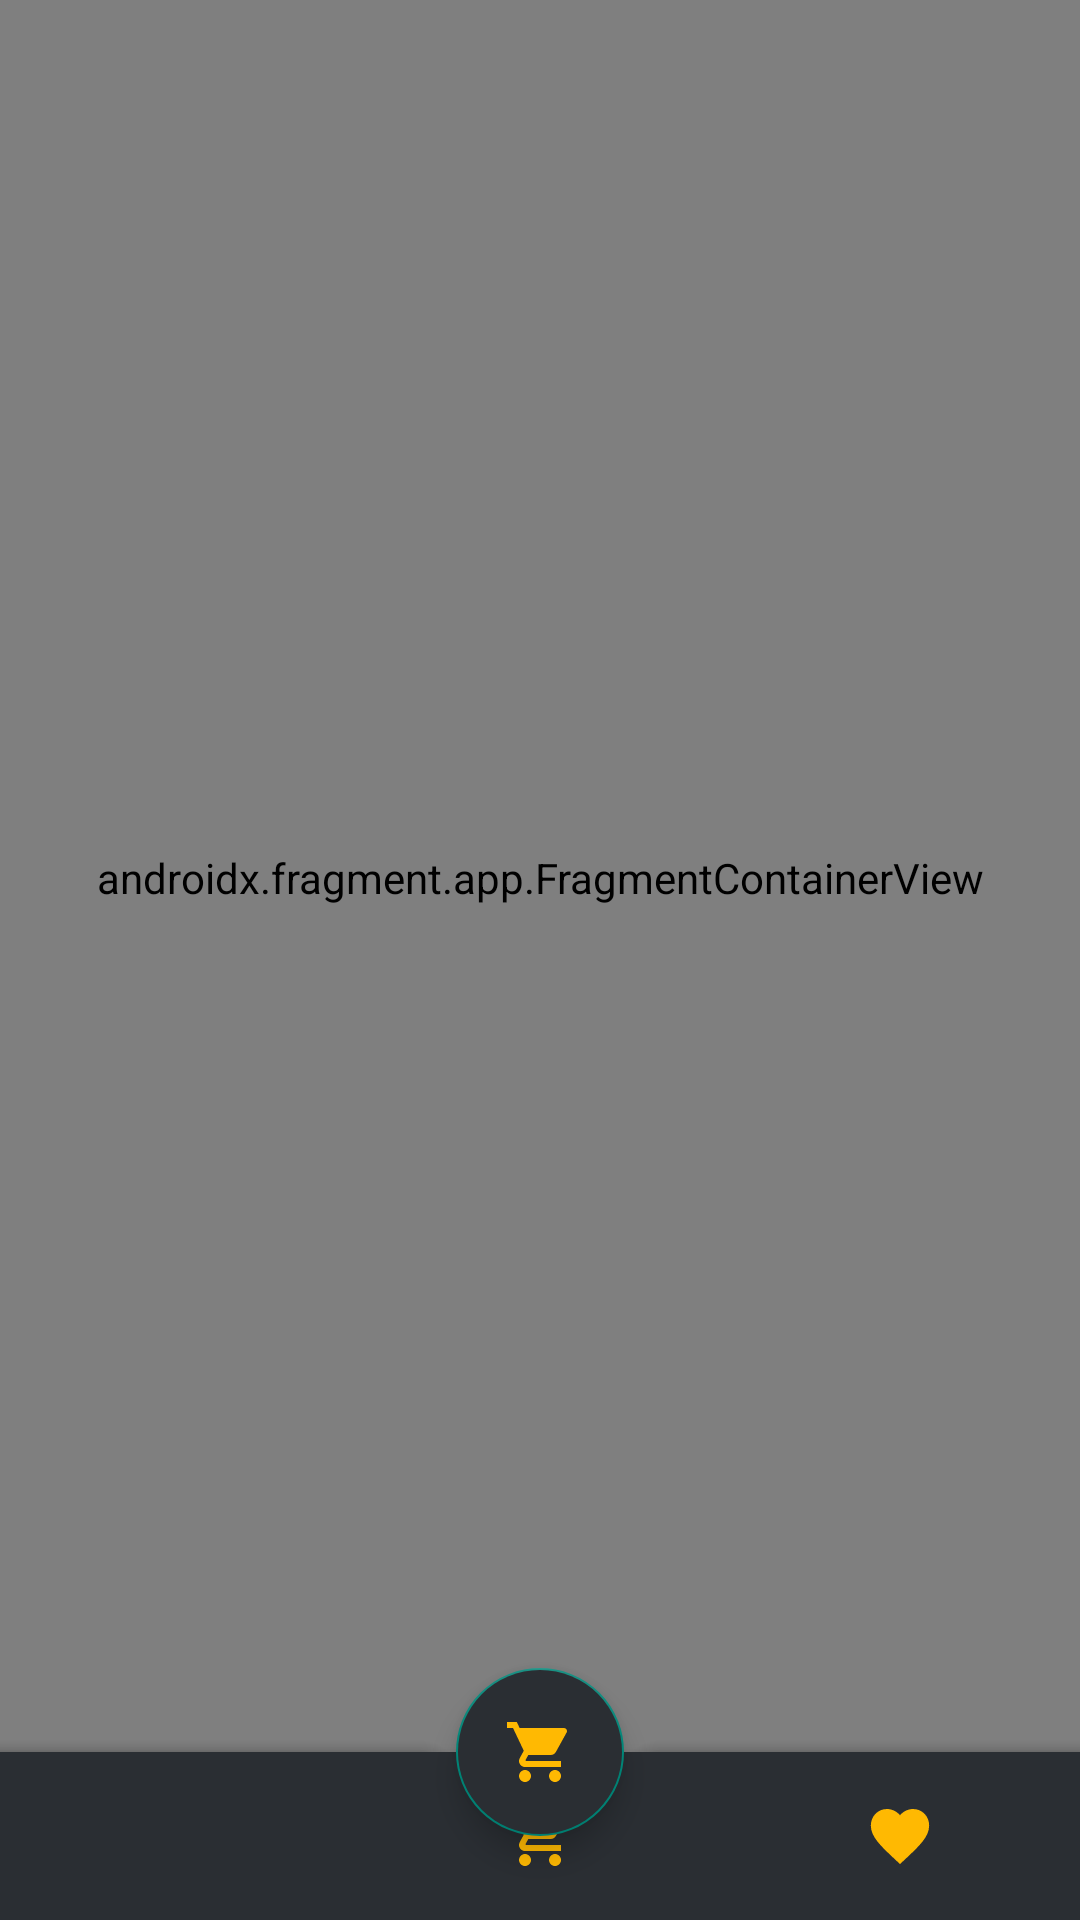

Named icons in this screenshot (1080px×1920px) and their centers, (x=x, y=y):
sepet: (x=540, y=1752)
